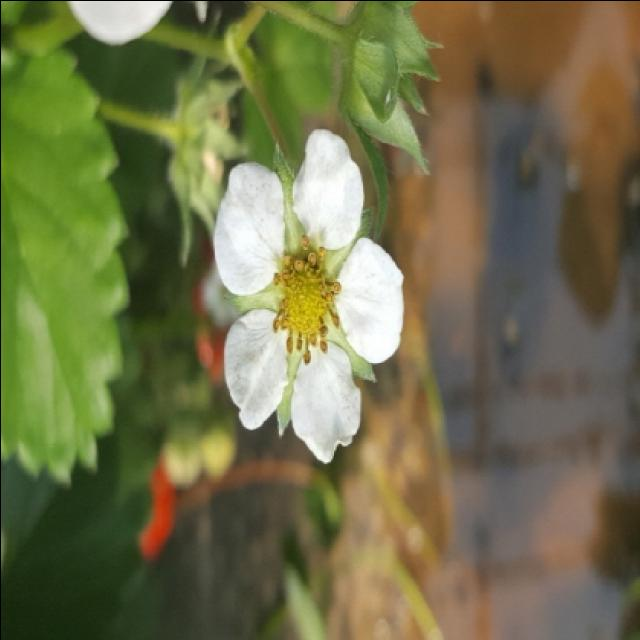Blossom Blight: (267, 232, 344, 370)
